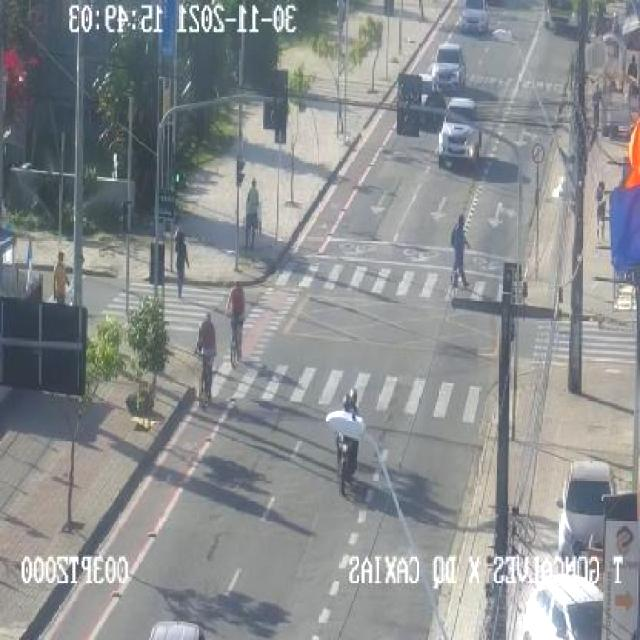Car: (556, 462, 614, 557), (520, 574, 603, 638), (436, 99, 482, 169), (432, 42, 468, 92), (543, 0, 579, 33), (458, 1, 490, 34)
